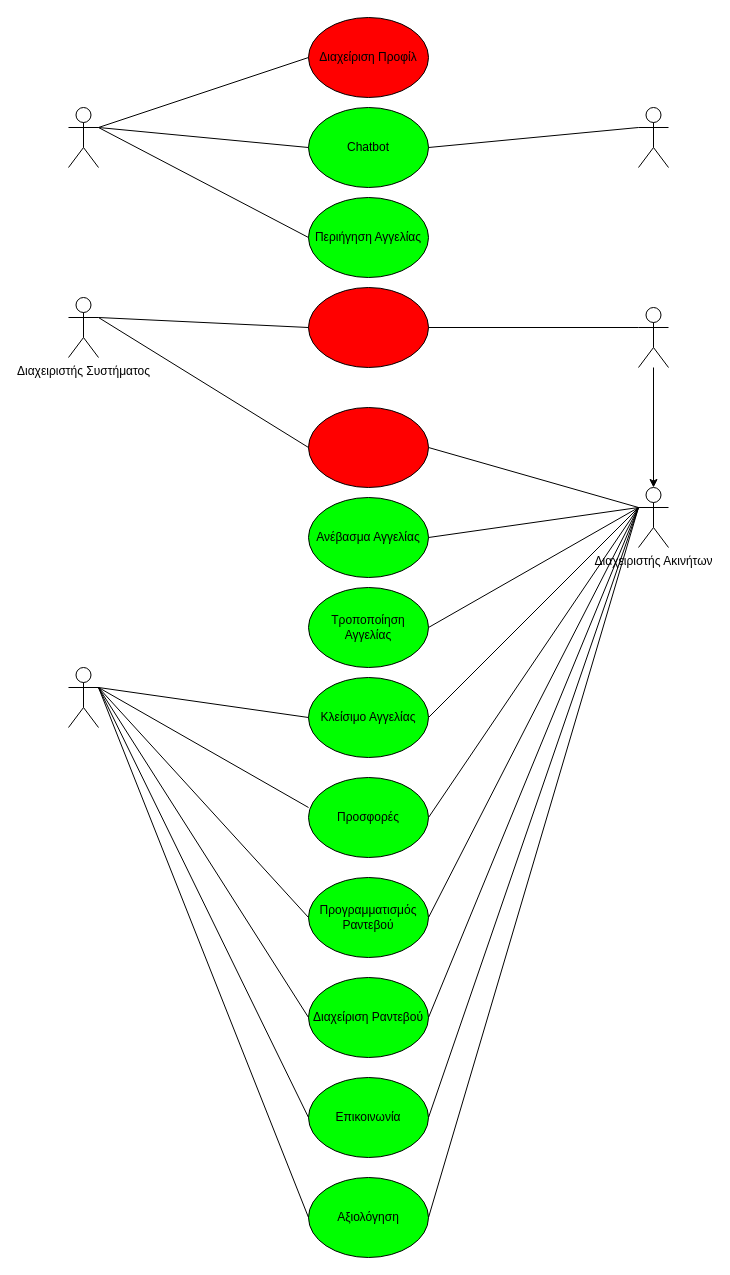
Some shapes in this 730 by 1275 pixel diagram are drawn without their labels. Each missing label, with the centre of its shape:
"Έλεγχος Αγγελιών" goes at (368,447).
"Επιβεβαίωση Μεσίτη" goes at (368,327).
"Ιδιώτης" goes at (83,697).
"Μεσίτης" goes at (653,337).
"Υπάλληλος" goes at (653,137).
"Χρήστης" goes at (83,137).
